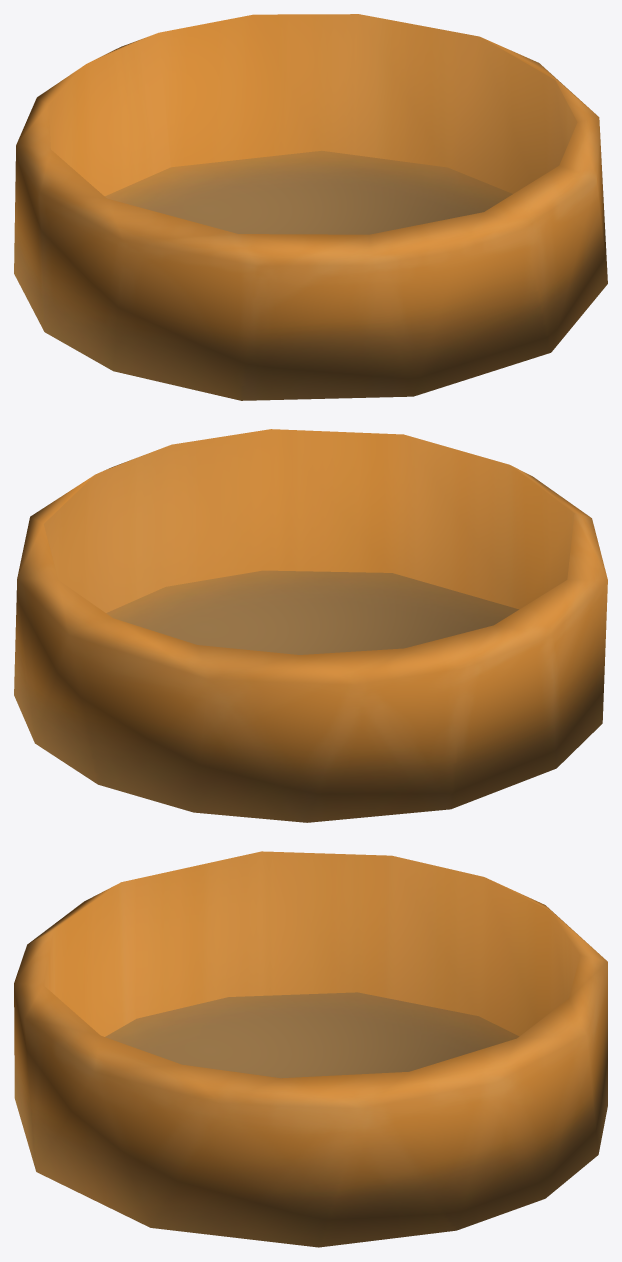
File: Button_01_Base.fbx
The picture shows the model from 3 angles, top to bottom: view 1: azimuth 30°, elevation 25°; view 2: azimuth 150°, elevation 25°; view 3: azimuth 270°, elevation 25°; orthographic projection.
Parts seen in each view (by area): view 1: Button_01_Base; view 2: Button_01_Base; view 3: Button_01_Base.
Boxes of the visible parts, x1,y1,x2,y2 form: Button_01_Base: [14, 14, 607, 400]; Button_01_Base: [14, 429, 607, 822]; Button_01_Base: [14, 851, 607, 1247].
Size of the model in its own units: 92.63 by 26.65 by 91.93.
Materials: 1 (1 with a texture image).
